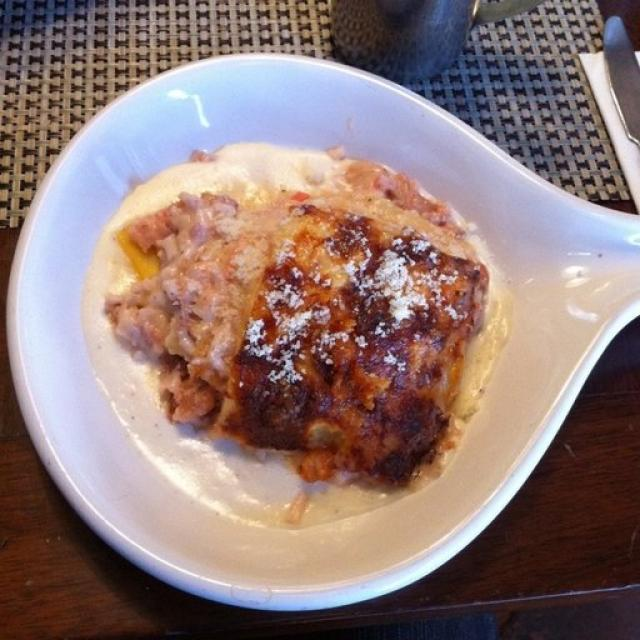Lasagna: (120, 147, 519, 502)
